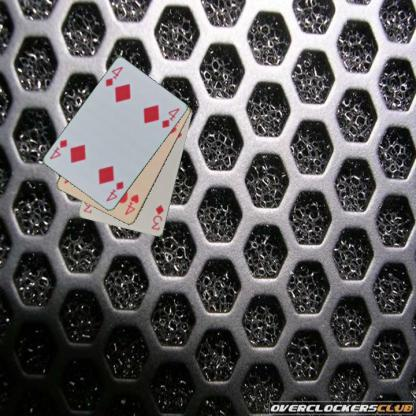3d: (148, 202, 166, 232)
4d: (103, 178, 125, 203), (103, 64, 124, 89)
4h: (122, 192, 140, 216)
